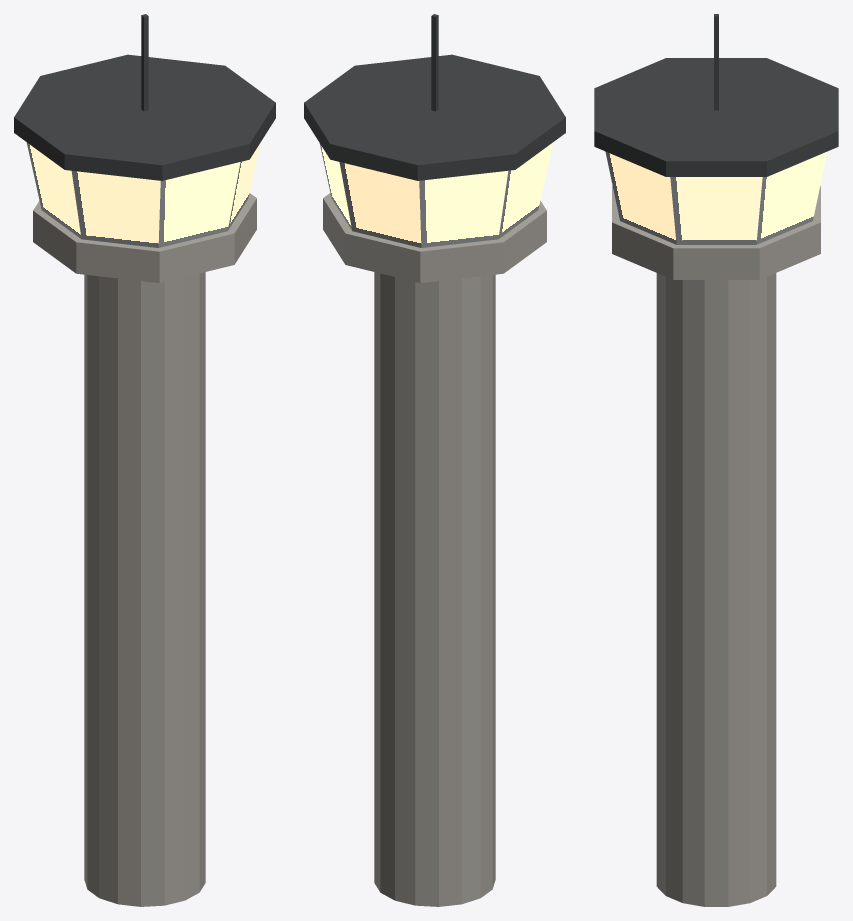
The model's file is khsv_tower.glb.
3 views of the same model, side by side, from view 1: azimuth 30°, elevation 25°; view 2: azimuth 150°, elevation 25°; view 3: azimuth 270°, elevation 25° (orthographic).
Visible parts, largest first — view 1: khsv_tower_concrete, khsv_tower_roof_dark, khsv_tower_cab_glass; view 2: khsv_tower_concrete, khsv_tower_roof_dark, khsv_tower_cab_glass; view 3: khsv_tower_concrete, khsv_tower_roof_dark, khsv_tower_cab_glass.
Boxes of the visible parts, x1=… form: khsv_tower_concrete: x1=33, y1=193, x2=256, y2=906; khsv_tower_roof_dark: x1=14, y1=14, x2=275, y2=180; khsv_tower_cab_glass: x1=26, y1=142, x2=260, y2=247; khsv_tower_concrete: x1=323, y1=193, x2=546, y2=906; khsv_tower_roof_dark: x1=304, y1=14, x2=565, y2=180; khsv_tower_cab_glass: x1=319, y1=142, x2=553, y2=247; khsv_tower_concrete: x1=612, y1=186, x2=820, y2=906; khsv_tower_roof_dark: x1=594, y1=14, x2=838, y2=176; khsv_tower_cab_glass: x1=605, y1=151, x2=827, y2=244.
Size of the model in its own units: 14.04 by 55 by 14.04.
3 materials, 3 textured.
